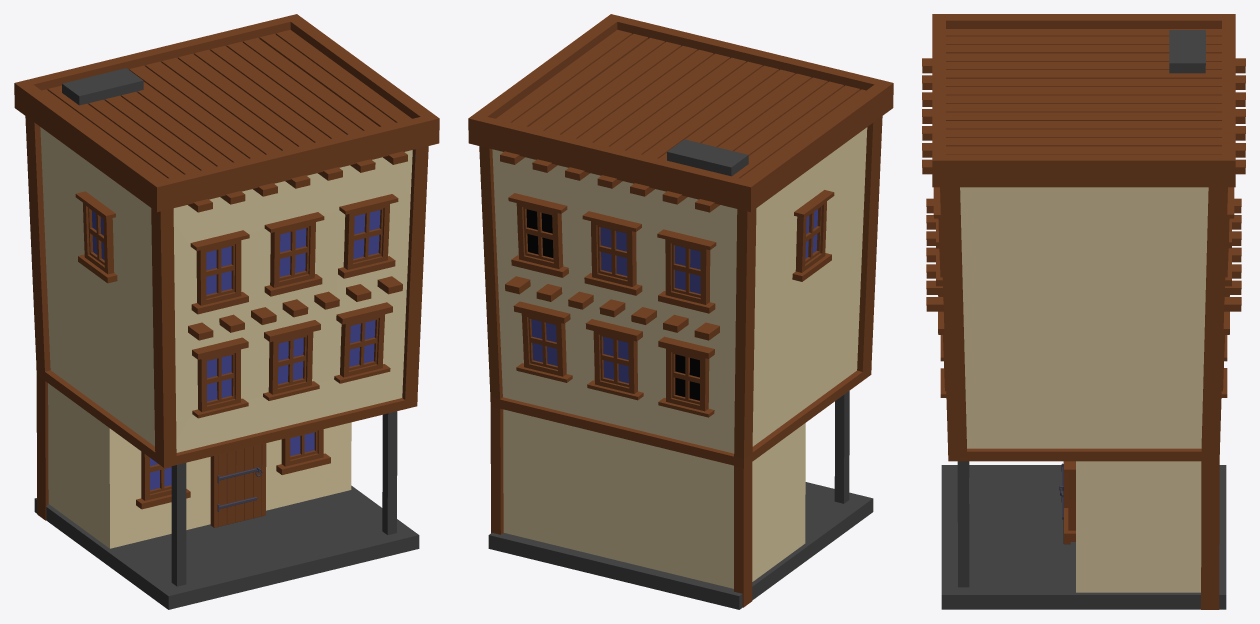
File: House_City_Highrise_02.fbx
3 views of the same model, side by side, from view 1: azimuth 30°, elevation 25°; view 2: azimuth 150°, elevation 25°; view 3: azimuth 270°, elevation 25° (orthographic). The views are drawn at different scales.
Parts seen in each view (by area): view 1: SM_Highrise_02; view 2: SM_Highrise_02; view 3: SM_Highrise_02.
Part boxes in pixels (left/top/right/bottom): SM_Highrise_02: left=14, top=14, right=439, bottom=609; SM_Highrise_02: left=468, top=14, right=893, bottom=609; SM_Highrise_02: left=922, top=14, right=1245, bottom=609.
Bounding box in the file's own units: 785 × 1144 × 732.
